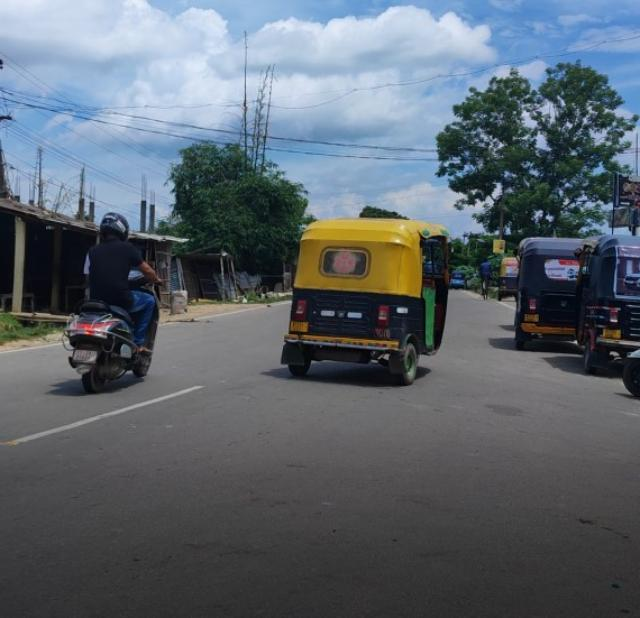licensePlate: (68, 351, 97, 367)
motorcycle: (60, 206, 163, 393)
withHelmet: (93, 211, 129, 245)
